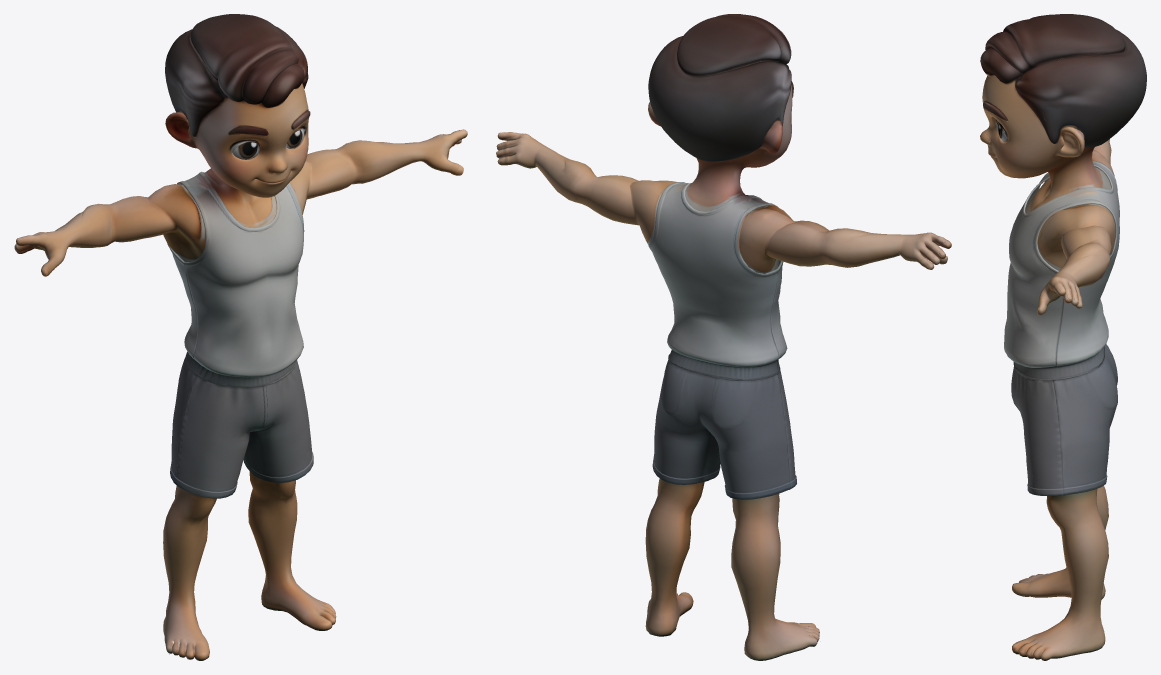
Rendered from 3d cartoon boy.glb.
The picture shows the model from 3 angles, left to right: view 1: azimuth 30°, elevation 25°; view 2: azimuth 150°, elevation 25°; view 3: azimuth 270°, elevation 25°; orthographic projection.
Visible parts, largest first — view 1: fe1a9e98_8569_4317_b570_7406da8fefac; view 2: fe1a9e98_8569_4317_b570_7406da8fefac; view 3: fe1a9e98_8569_4317_b570_7406da8fefac.
Part boxes in pixels (x1,y1,x2,y2): fe1a9e98_8569_4317_b570_7406da8fefac: [14, 14, 467, 660]; fe1a9e98_8569_4317_b570_7406da8fefac: [496, 14, 951, 660]; fe1a9e98_8569_4317_b570_7406da8fefac: [980, 14, 1146, 660].
Size of the model in its own units: 0.7778 by 0.9995 by 0.251.
1 material, 1 textured.
